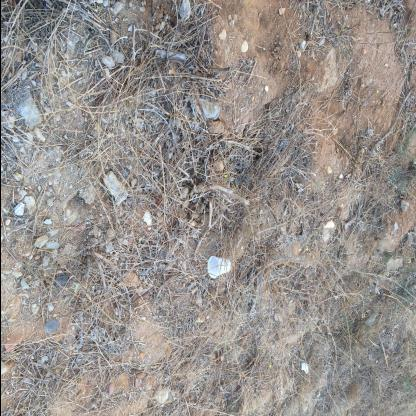karton: (206, 255, 230, 279)
